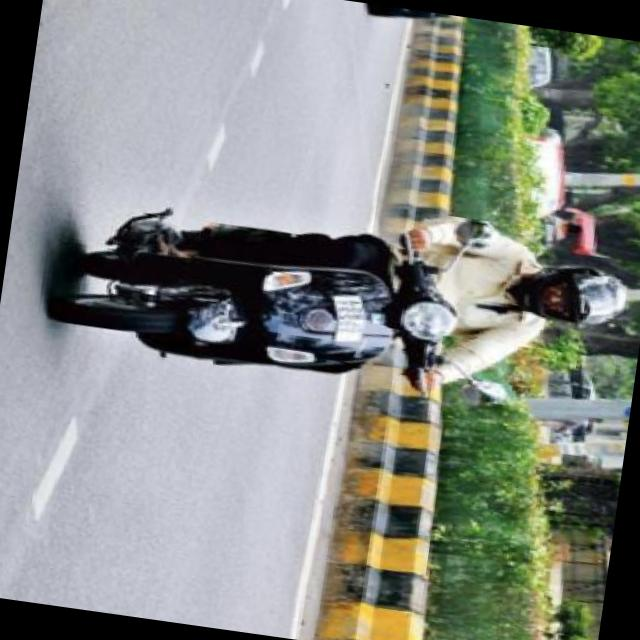With Helmet: (512, 256, 636, 337)
